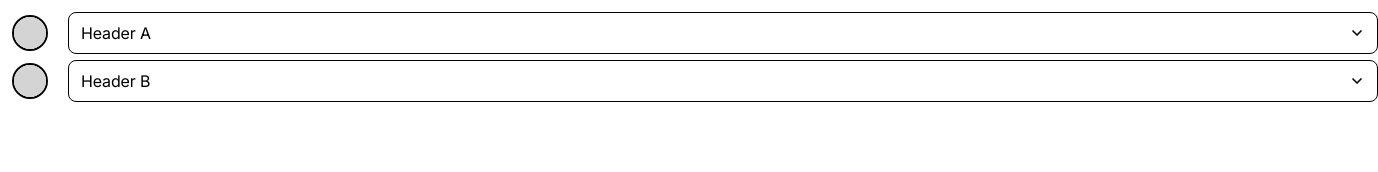
Test: Timeline / TimelineEntry › renders its own chevron outside the faded content, so it stays visible and clickable while content is collapsed
The image size is (1378, 172).
Click the 1st button named "Expand" at (1357, 33), box [1345,21,1369,45]
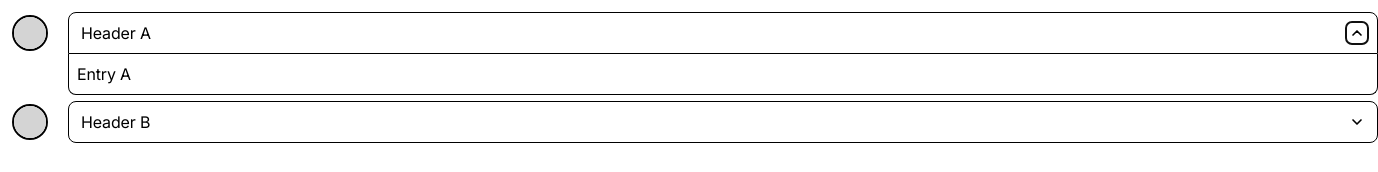
Expected: the button named "Collapse" is shown, [1345,21,1369,45]
